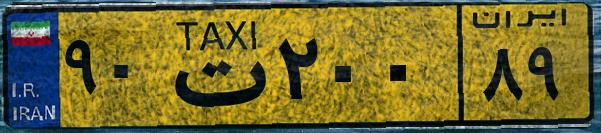0: (385, 28, 445, 110), (330, 28, 385, 110), (110, 28, 158, 98)
2: (270, 28, 330, 110)
8: (475, 38, 525, 113)
9: (57, 26, 110, 100), (525, 38, 570, 115)
ت: (158, 12, 270, 120)
